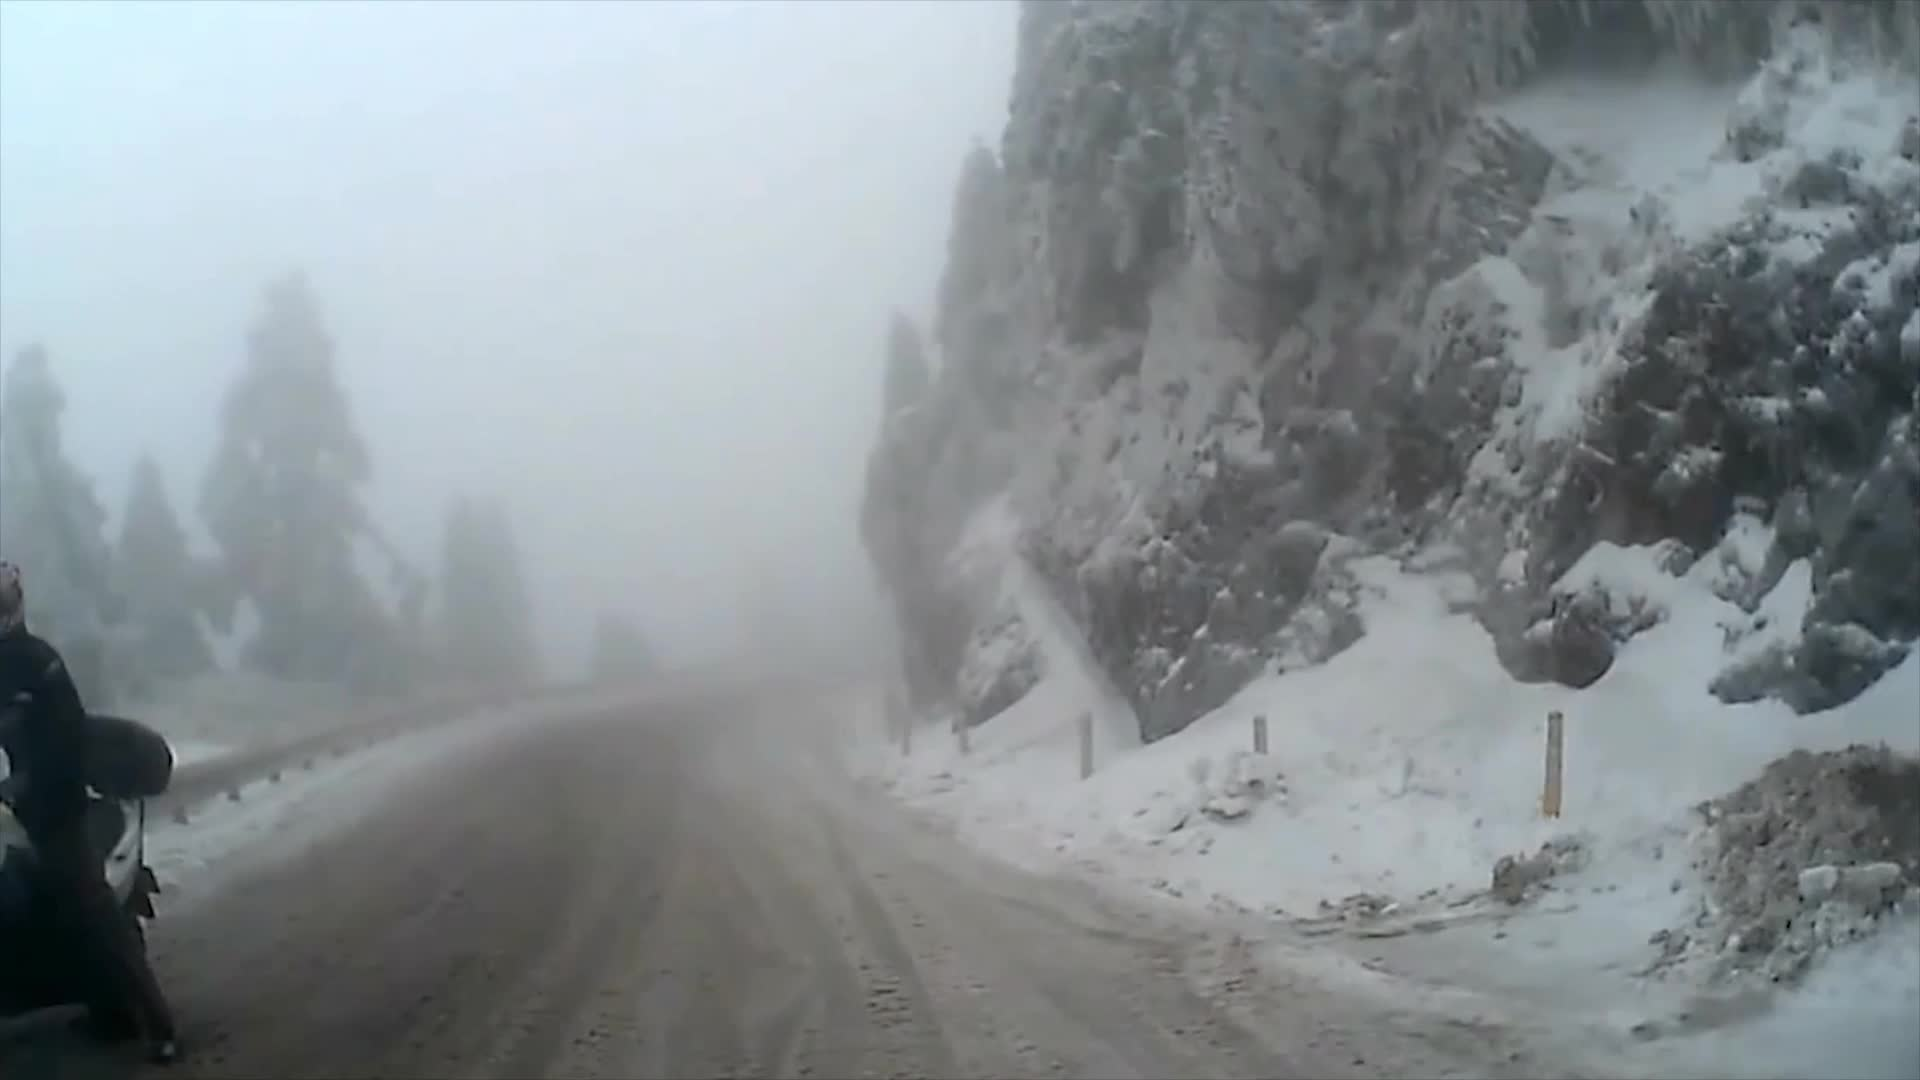pedestrian: (0, 548, 190, 1062)
